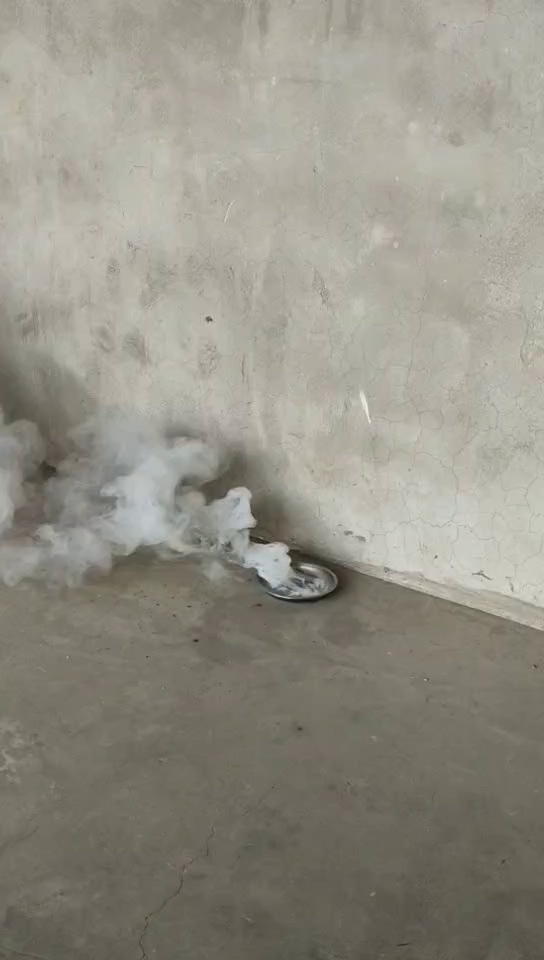yanwu: (13, 397, 294, 594)
